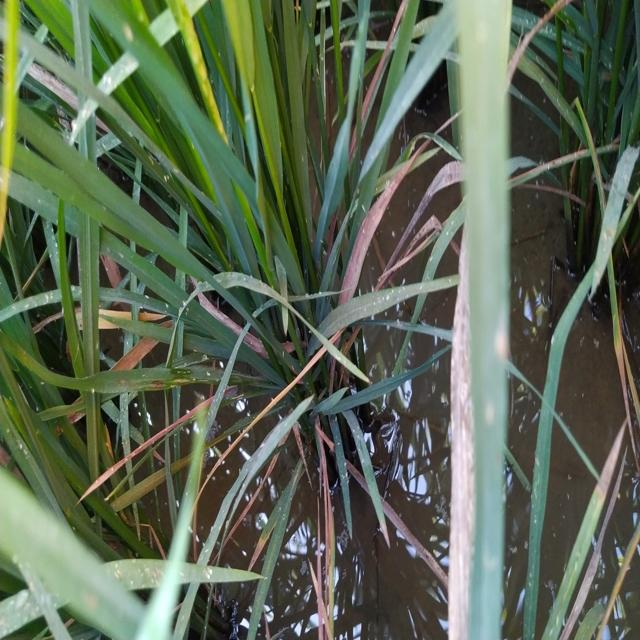Brown spot: (316, 111, 463, 304), (575, 413, 637, 531)
